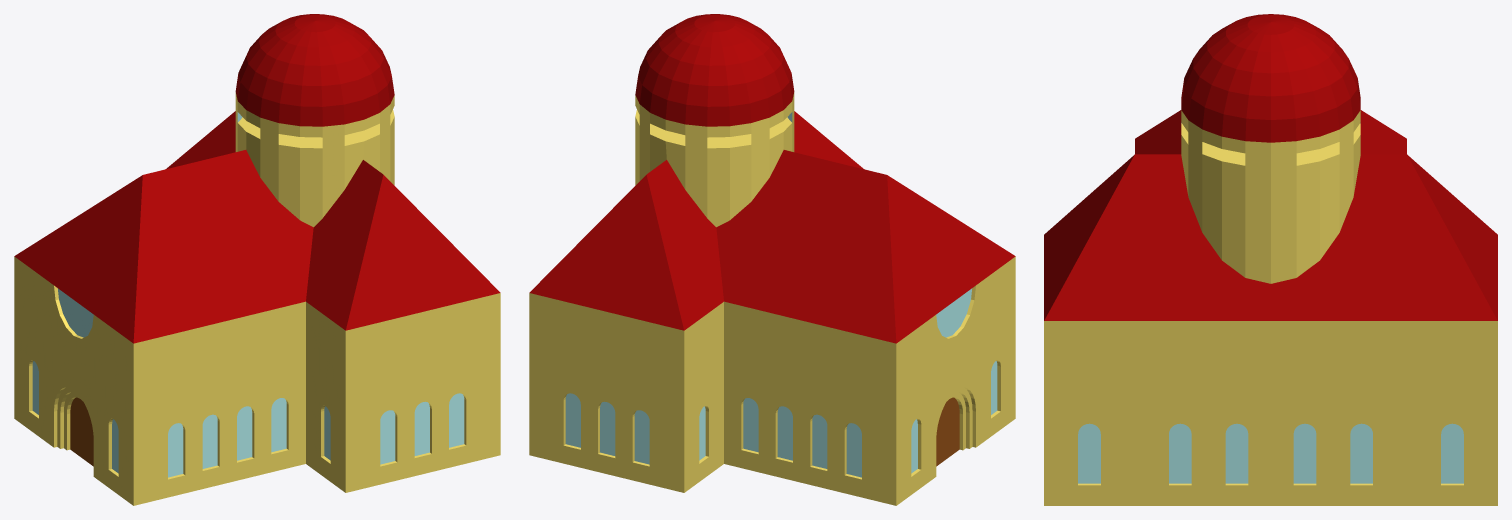
The model's file is church1.fbx.
3 views of the same model, side by side, from view 1: azimuth 30°, elevation 25°; view 2: azimuth 150°, elevation 25°; view 3: azimuth 270°, elevation 25° (orthographic). The views are drawn at different scales.
Parts seen in each view (by area): view 1: Church1; view 2: Church1; view 3: Church1.
Part boxes in pixels (box(x1,y1,x2,y2)): Church1: box(14, 14, 500, 505); Church1: box(529, 14, 1015, 505); Church1: box(1044, 14, 1497, 505).
Size of the model in its own units: 2850 by 3180 by 3000.
